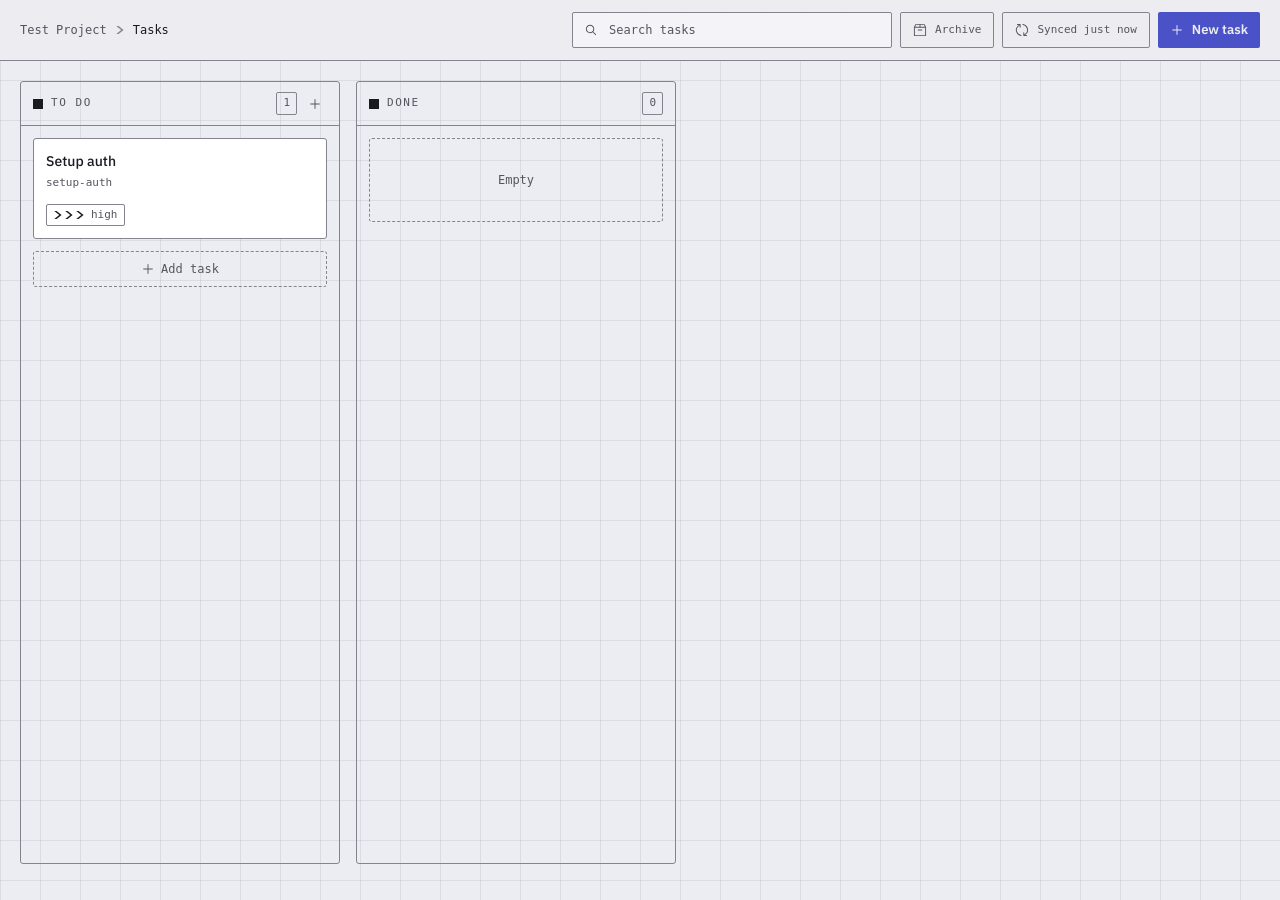
it: Board › shows an unreadable Updates section verbatim with the reason it broke
The width and height of the screenshot is (1280, 900).
Click the heading "Setup auth": {"x": 81, "y": 161} [46,152,116,170]
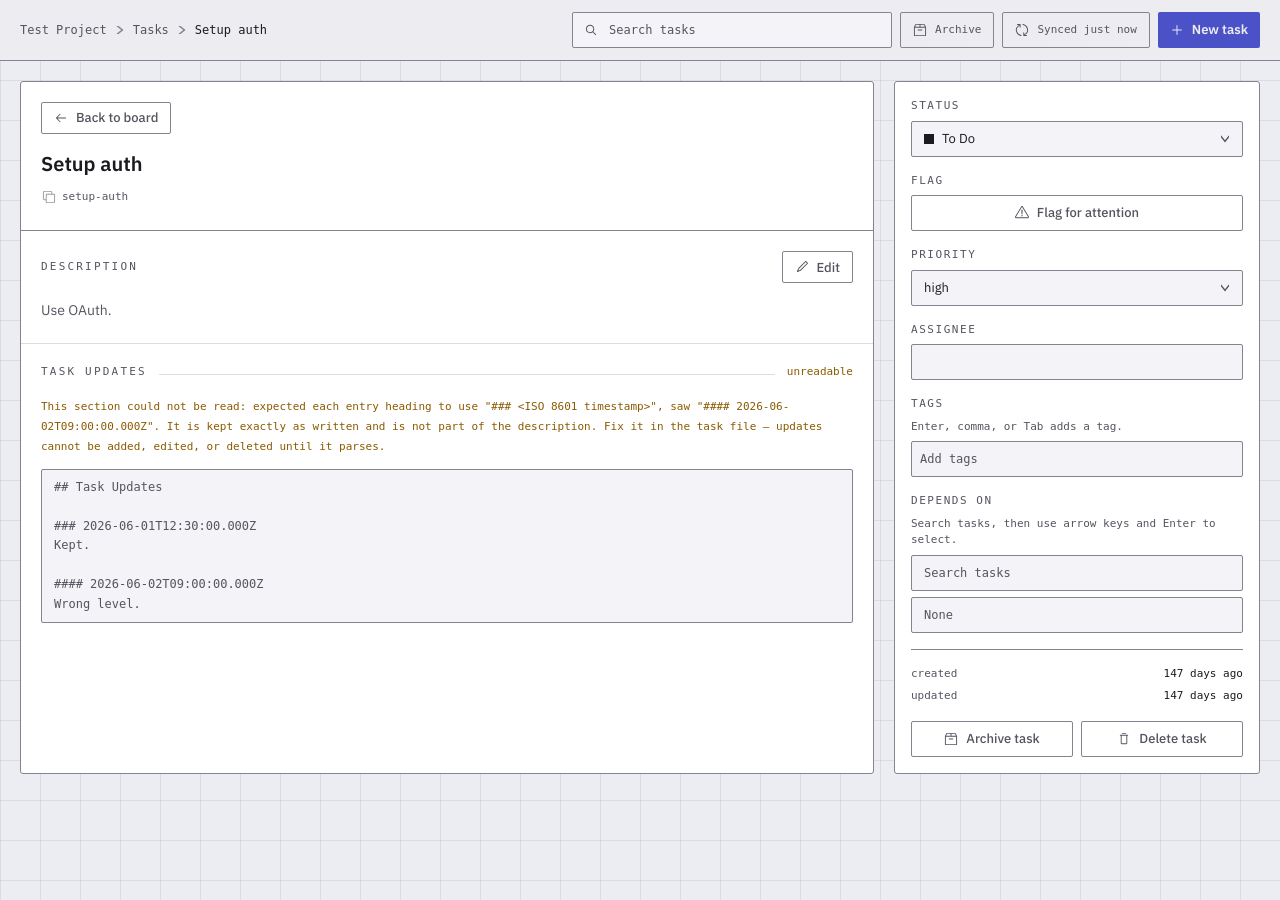
Now the message shows "saw \"#### 2026-06-02T09:00:00.000Z\"", box [41,400,789,432]
Now the text "#### 2026-06-02T09:00:00.000Z" is shown, box [54,480,264,610]
Now the text "unreadable" is shown, box [787,364,853,380]
